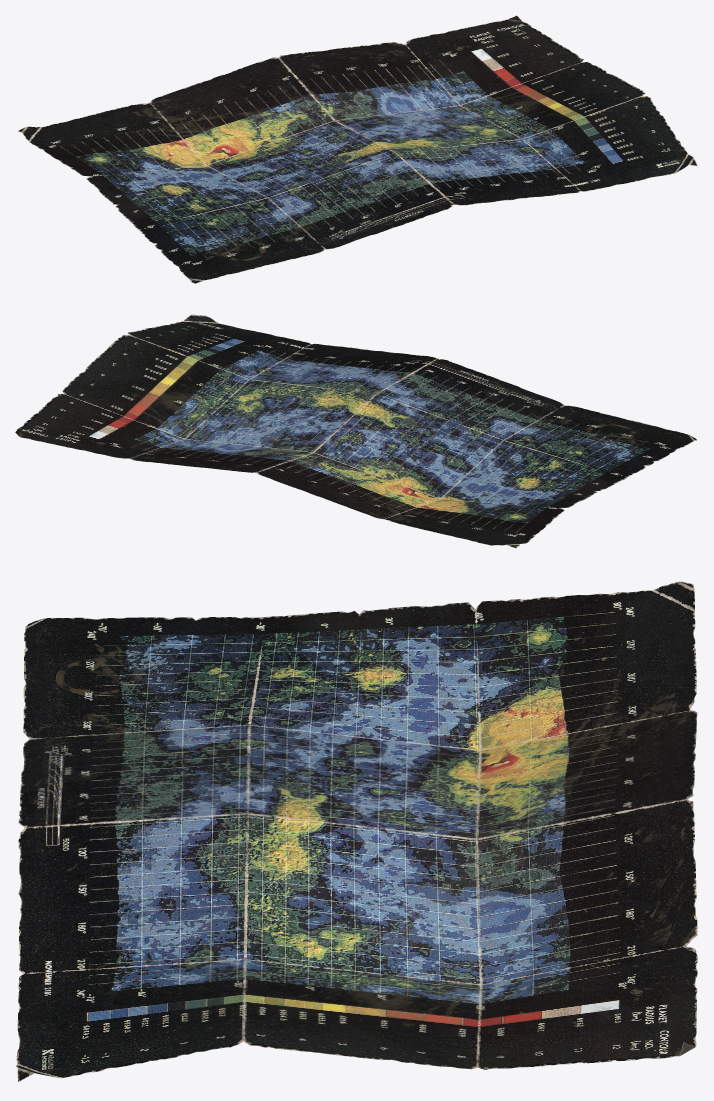
The model's file is GenericProp-Map.fbx.
The picture shows the model from 3 angles, top to bottom: view 1: azimuth 30°, elevation 25°; view 2: azimuth 150°, elevation 25°; view 3: azimuth 270°, elevation 25°; orthographic projection. The views are drawn at different scales.
Parts seen in each view (by area): view 1: Map; view 2: Map; view 3: Map.
Part boxes in pixels (x1,y1,x2,y2): Map: (18, 15, 697, 283); Map: (15, 314, 696, 548); Map: (16, 581, 697, 1081).
Size of the model in its own units: 102 by 7.34 by 62.67.
